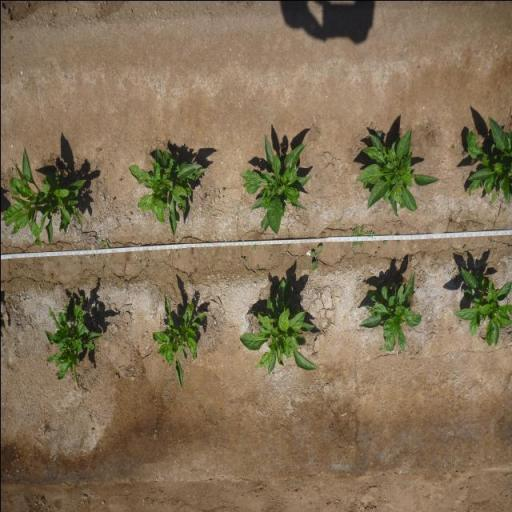plant: (234, 276, 320, 379), (4, 140, 86, 248), (241, 130, 312, 236), (128, 146, 208, 238), (352, 136, 438, 220), (42, 288, 104, 392), (151, 285, 207, 396), (354, 266, 422, 356), (453, 262, 512, 349), (462, 112, 512, 212), (96, 238, 111, 248)
weed: (348, 220, 375, 251), (309, 243, 323, 271), (250, 244, 258, 251), (210, 313, 216, 321), (460, 244, 467, 250), (462, 225, 468, 232), (382, 239, 387, 245), (241, 256, 245, 262), (450, 144, 454, 150), (256, 264, 258, 270)
